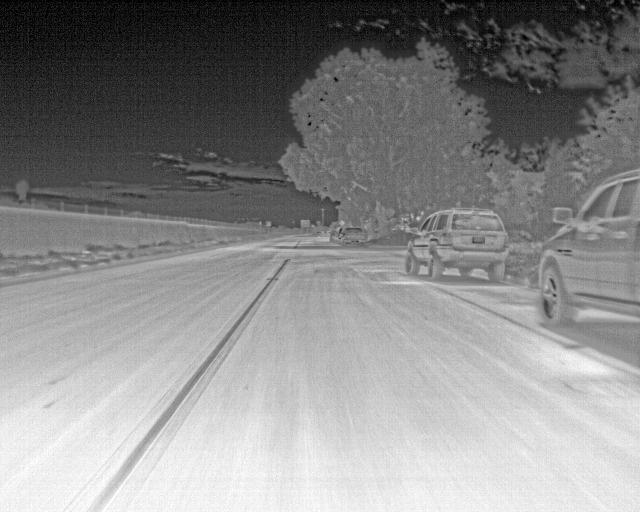car: (563, 170, 639, 330), (410, 207, 511, 285), (335, 227, 364, 246)
